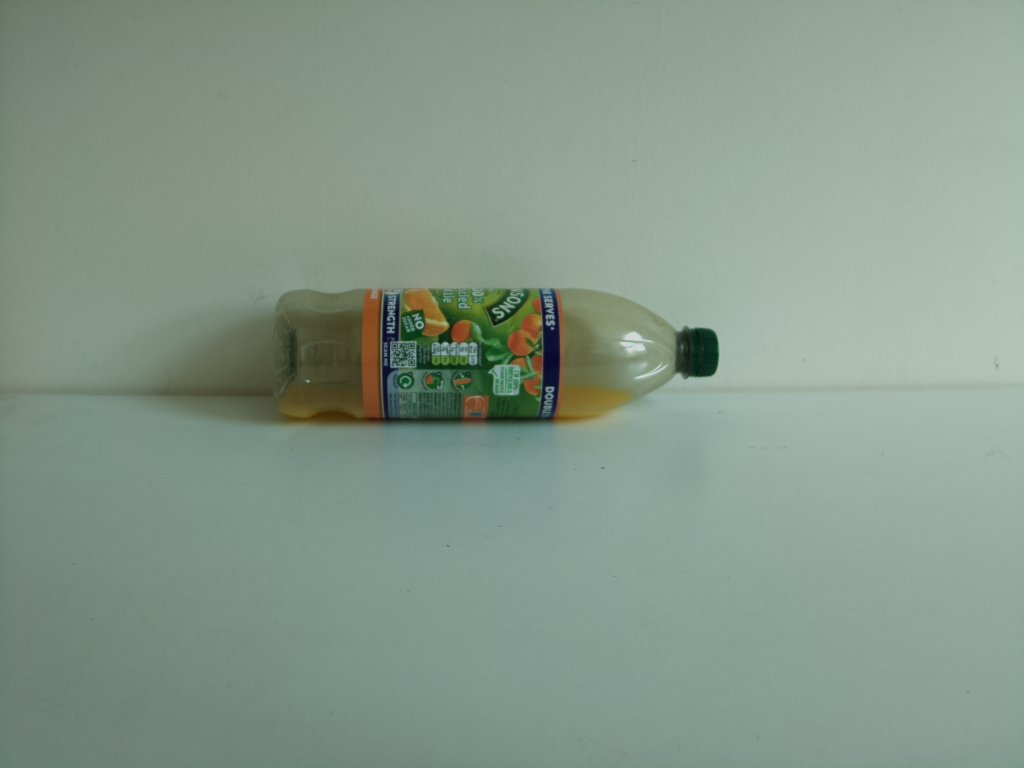juice: (256, 277, 726, 421)
